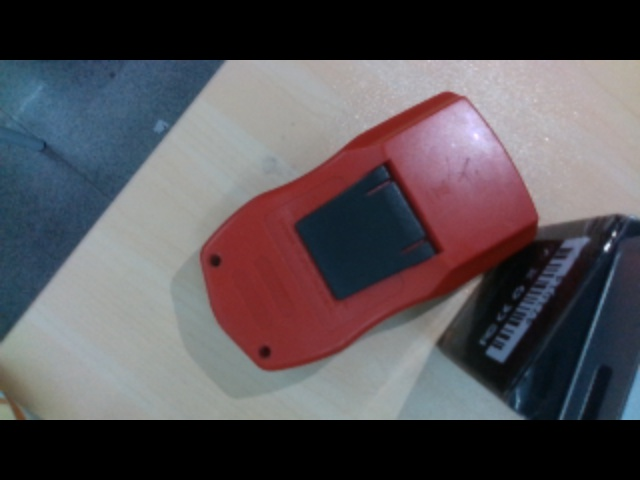Multimeter: (200, 92, 538, 373)
Screw holes: (256, 343, 275, 360), (209, 254, 224, 268)
